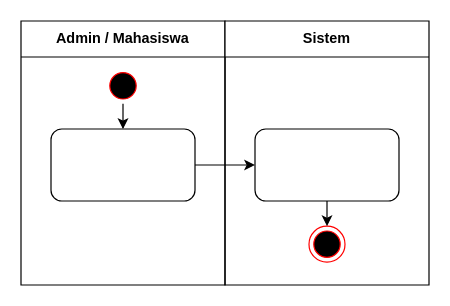
The diagram is 450 pixels wide and 306 high, and some of its shapes have lost their labels. Each missing label, with the box of its shape:
Menampilkan Panel Mission: (254, 128, 399, 201)
Menekan Tombol Mission: (50, 128, 195, 201)
